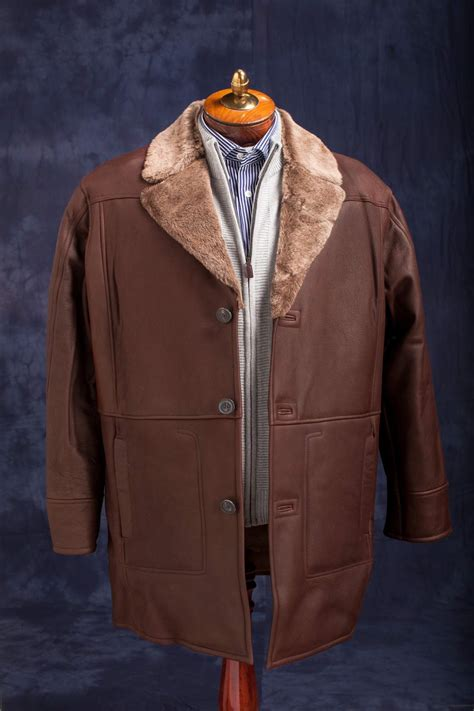cuero: (42, 146, 461, 667)
